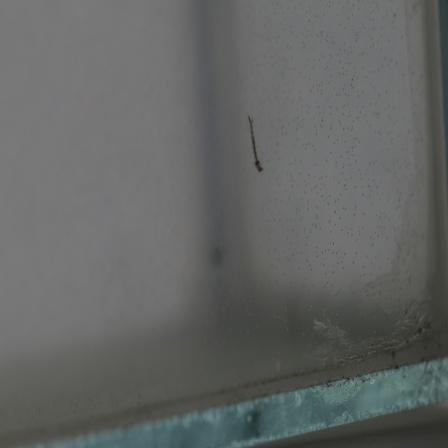Jentik-Nyamuk: (241, 109, 267, 175)
